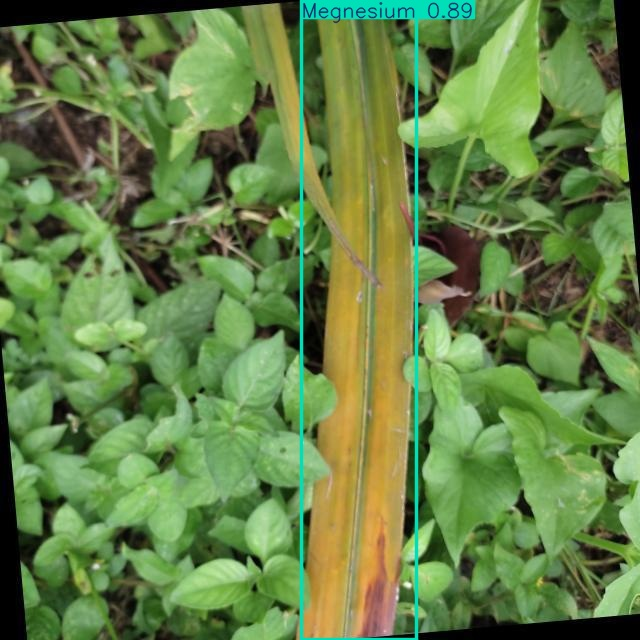Megnesium: (302, 0, 417, 640)
